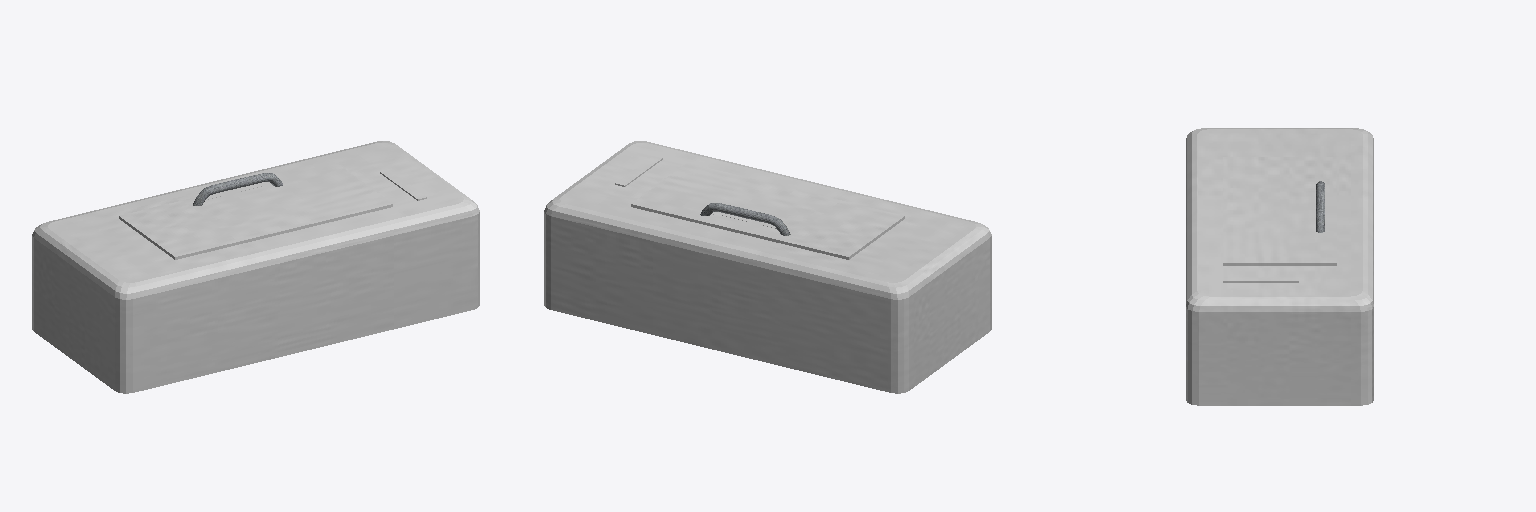
The picture shows the model from 3 angles: view 1: azimuth 30°, elevation 25°; view 2: azimuth 150°, elevation 25°; view 3: azimuth 270°, elevation 25°; orthographic projection.
Visible parts, largest first — view 1: polySurface2; view 2: polySurface2; view 3: polySurface2.
Boxes of the visible parts, box(x1,y1,x2,y2) form: polySurface2: box(32, 141, 479, 393); polySurface2: box(544, 141, 991, 393); polySurface2: box(1186, 128, 1373, 405).
Bounding box in the file's own units: 12.54 × 4.03 × 5.63.
2 materials, 2 textured.